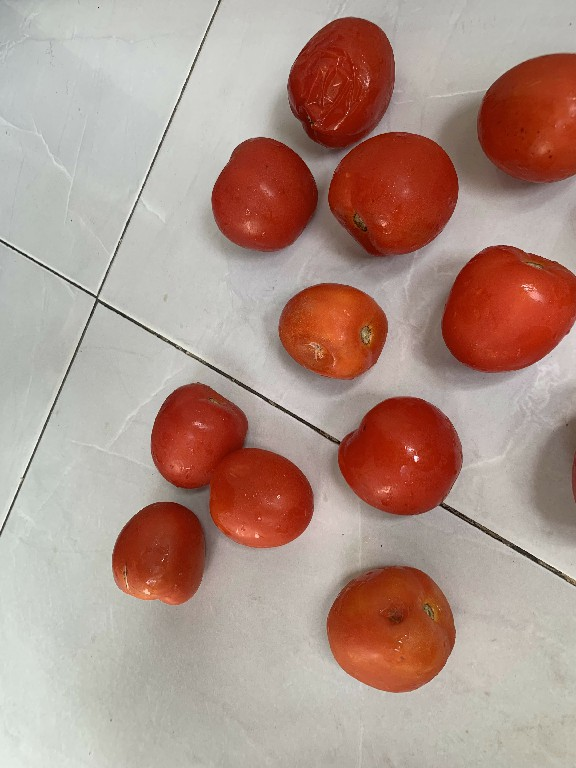NG: (323, 557, 455, 695), (282, 8, 397, 156), (273, 275, 393, 381), (108, 497, 207, 609)
OK: (435, 237, 576, 380), (322, 128, 459, 261), (338, 390, 468, 524), (476, 43, 576, 190), (211, 131, 319, 253), (204, 445, 319, 551), (143, 378, 243, 492)
